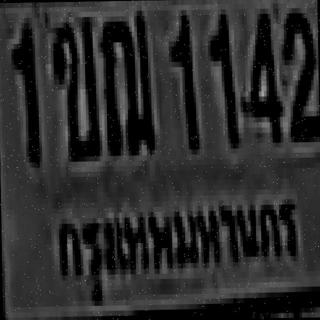A02: (50, 17, 97, 157)
A12: (100, 5, 152, 151)
N01: (11, 20, 37, 160), (169, 10, 195, 149), (207, 9, 233, 144)
N02: (282, 5, 318, 134)
N04: (245, 8, 279, 138)
P04: (52, 181, 306, 294)
